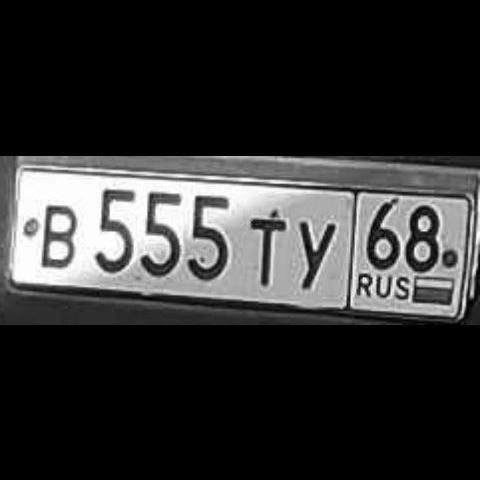license-plateSW: (4, 163, 473, 322)
